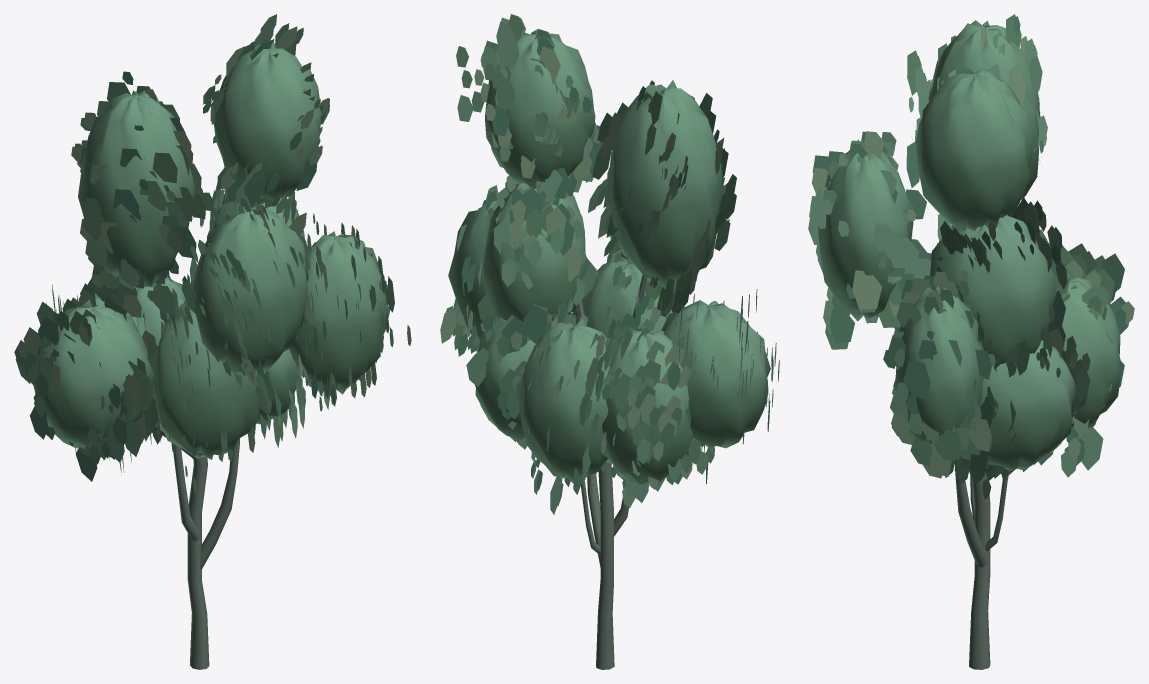
File: anime_tree_slender.glb
3 views of the same model, side by side, from view 1: azimuth 30°, elevation 25°; view 2: azimuth 150°, elevation 25°; view 3: azimuth 270°, elevation 25° (orthographic). The views are drawn at different scales.
Visible parts, largest first — view 1: Foliage_2, Foliage_0, Canopy_1, Canopy_0, Canopy_2, Canopy_4, Canopy_9, Canopy_5, Foliage_1, Trunk, Canopy_7, Canopy_6 (+1 smaller); view 2: Foliage_2, Foliage_0, Canopy_0, Canopy_5, Canopy_6, Canopy_2, Foliage_1, Canopy_3, Canopy_8, Trunk, Canopy_9, Canopy_4 (+1 smaller); view 3: Foliage_1, Canopy_2, Foliage_0, Canopy_3, Canopy_1, Canopy_7, Canopy_4, Canopy_6, Trunk, Canopy_0, Foliage_2.
Part boxes in pixels (left/top/right/bottom): Foliage_2: left=14, top=14, right=329, bottom=481; Foliage_0: left=71, top=71, right=311, bottom=493; Canopy_1: left=191, top=206, right=308, bottom=374; Canopy_0: left=78, top=90, right=195, bottom=289; Canopy_2: left=213, top=41, right=320, bottom=200; Canopy_4: left=289, top=231, right=389, bottom=394; Canopy_9: left=153, top=303, right=266, bottom=459; Canopy_5: left=33, top=300, right=154, bottom=448; Foliage_1: left=181, top=194, right=411, bottom=447; Trunk: left=154, top=283, right=239, bottom=669; Canopy_7: left=255, top=349, right=298, bottom=424; Canopy_6: left=135, top=275, right=185, bottom=414; Foliage_2: left=456, top=14, right=779, bottom=507; Foliage_0: left=488, top=80, right=736, bottom=514; Canopy_0: left=608, top=80, right=723, bottom=289; Canopy_5: left=661, top=300, right=770, bottom=451; Canopy_6: left=518, top=318, right=609, bottom=483; Canopy_2: left=485, top=29, right=595, bottom=188; Foliage_1: left=440, top=138, right=729, bottom=449; Canopy_3: left=482, top=183, right=588, bottom=321; Canopy_8: left=602, top=326, right=692, bottom=485; Trunk: left=575, top=275, right=646, bottom=669; Canopy_9: left=572, top=258, right=673, bottom=338; Canopy_4: left=448, top=196, right=497, bottom=340; Foliage_1: left=808, top=131, right=1090, bottom=499; Canopy_2: left=915, top=67, right=1033, bottom=231; Foliage_0: left=892, top=14, right=1134, bottom=477; Canopy_3: left=929, top=215, right=1056, bottom=363; Canopy_1: left=818, top=139, right=913, bottom=321; Canopy_7: left=979, top=340, right=1076, bottom=470; Canopy_4: left=895, top=286, right=983, bottom=451; Canopy_6: left=1054, top=274, right=1120, bottom=435; Trunk: left=955, top=472, right=1008, bottom=669; Canopy_0: left=928, top=20, right=1039, bottom=199; Foliage_2: left=907, top=66, right=1124, bottom=304.
Size of the model in its own units: 5.54 by 9.64 by 4.41.
